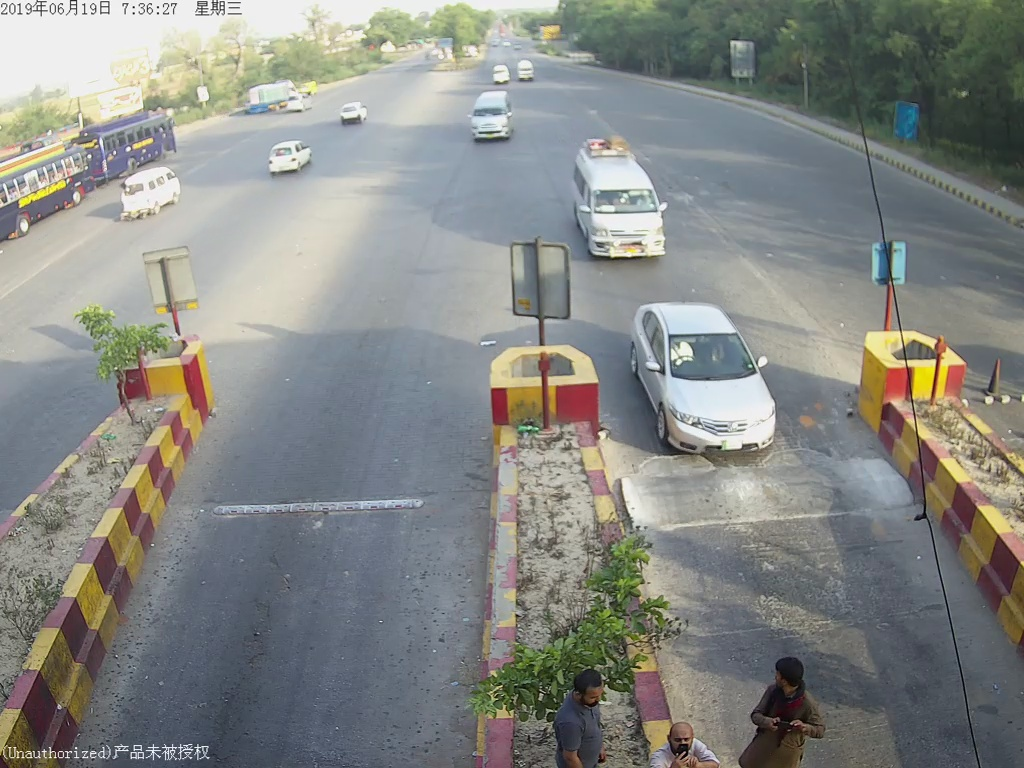Cat-1: (630, 295, 787, 458)
Cat-2: (568, 132, 672, 263), (466, 82, 514, 144)
